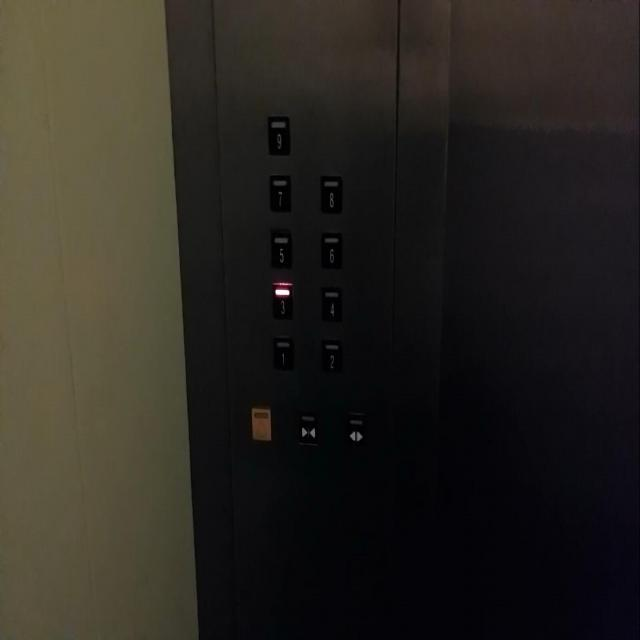1: (273, 337, 293, 372)
2: (322, 342, 341, 375)
3: (272, 281, 292, 318)
4: (321, 291, 341, 325)
5: (270, 232, 292, 270)
6: (321, 232, 341, 268)
7: (268, 174, 292, 213)
8: (320, 175, 342, 213)
9: (268, 116, 290, 155)
alarm: (251, 406, 271, 440)
close: (297, 413, 318, 444)
open: (345, 414, 366, 448)
